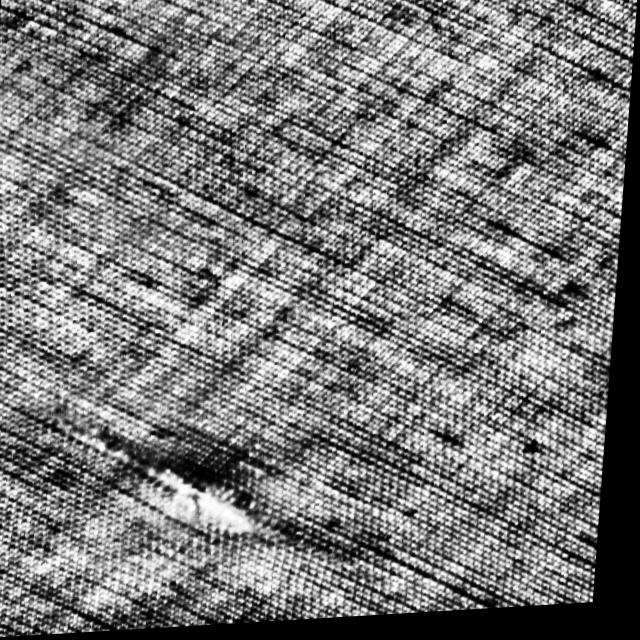Stitch: (69, 414, 309, 562)
